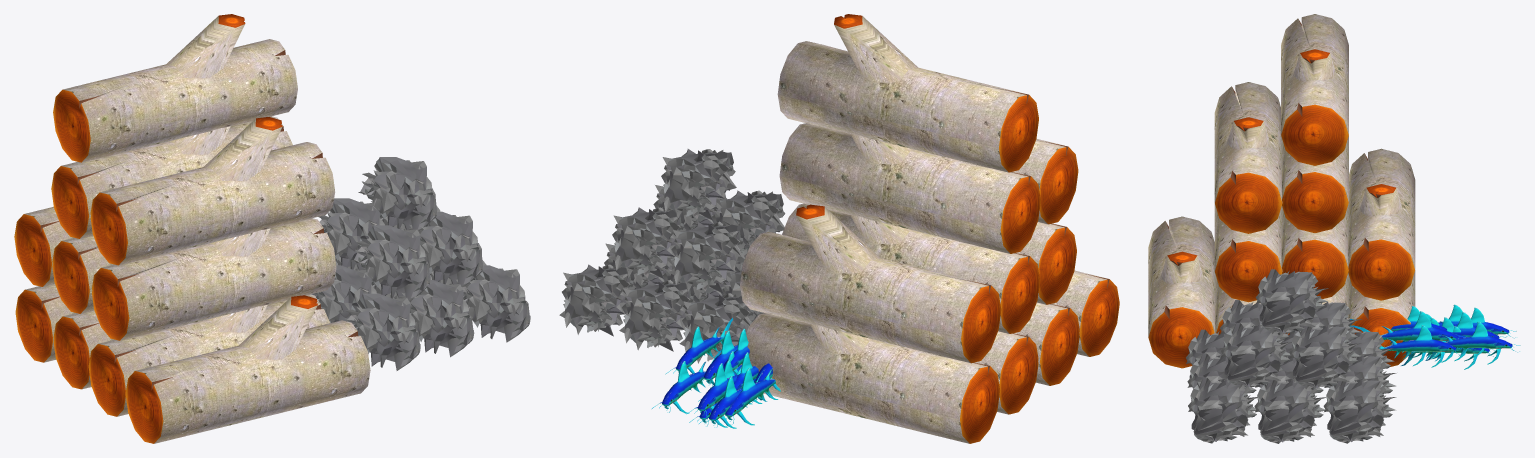
Rendered from GrindScapeFlag_INIT.glb.
3 views of the same model, side by side, from view 1: azimuth 30°, elevation 25°; view 2: azimuth 150°, elevation 25°; view 3: azimuth 270°, elevation 25° (orthographic). The views are drawn at different scales.
Parts seen in each view (by area): view 1: GrindScapeFlag_INIT; view 2: GrindScapeFlag_INIT; view 3: GrindScapeFlag_INIT.
Part boxes in pixels (x1,y1,x2,y2): GrindScapeFlag_INIT: [14, 14, 530, 443]; GrindScapeFlag_INIT: [559, 14, 1119, 443]; GrindScapeFlag_INIT: [1148, 14, 1520, 443].
Size of the model in its own units: 1.18 by 0.9193 by 1.06.
Materials: 4 (4 with a texture image).
